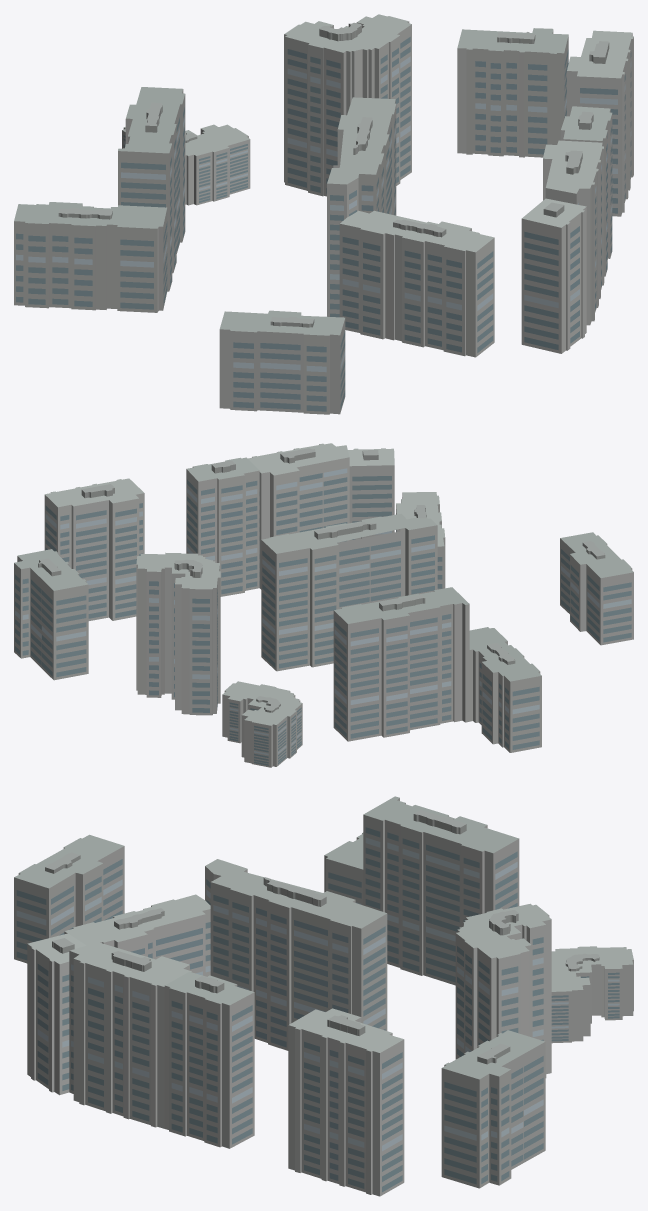
Rendered from apt-a12179503.glb.
3 views of the same model, one above another, from view 1: azimuth 30°, elevation 25°; view 2: azimuth 150°, elevation 25°; view 3: azimuth 270°, elevation 25° (orthographic). The views are drawn at different scales.
Parts seen in each view (by area): view 1: apt-a12179503; view 2: apt-a12179503; view 3: apt-a12179503.
Boxes of the visible parts, x1,y1,x2,y2 form: apt-a12179503: (14, 14, 633, 414); apt-a12179503: (14, 443, 633, 767); apt-a12179503: (14, 796, 633, 1196).
Size of the model in its own units: 183 by 45 by 157.
